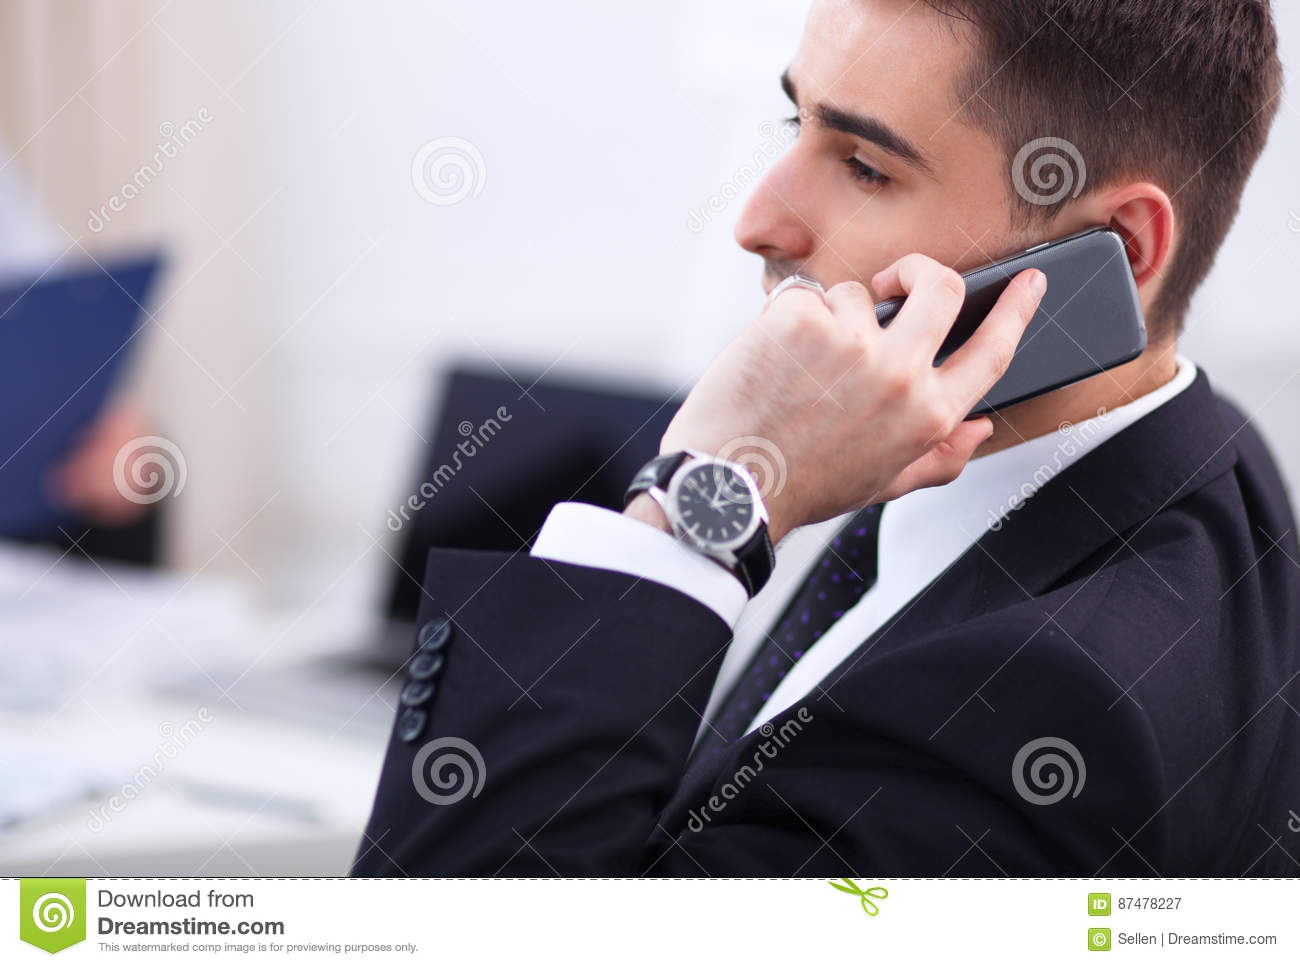phone: (852, 232, 1146, 430)
talk: (660, 44, 1149, 544)
